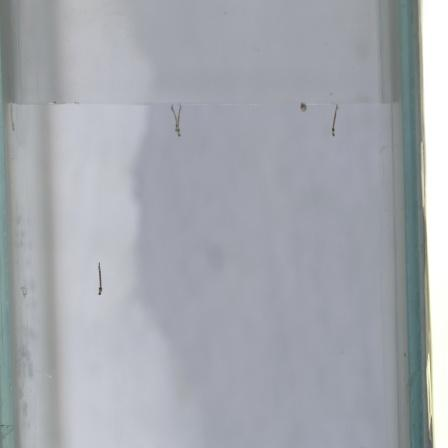Jentik-Nyamuk: (163, 103, 186, 143), (92, 256, 106, 305), (328, 103, 344, 142), (296, 100, 310, 118)
